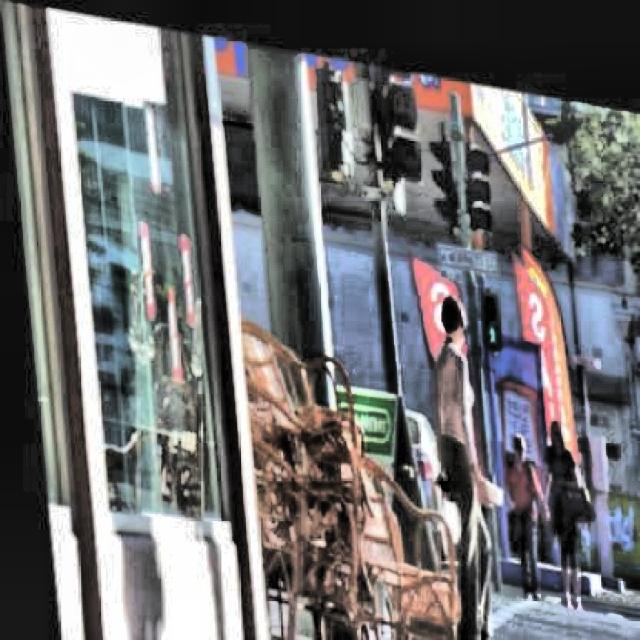semaforo pedestre: (461, 254, 508, 354)
